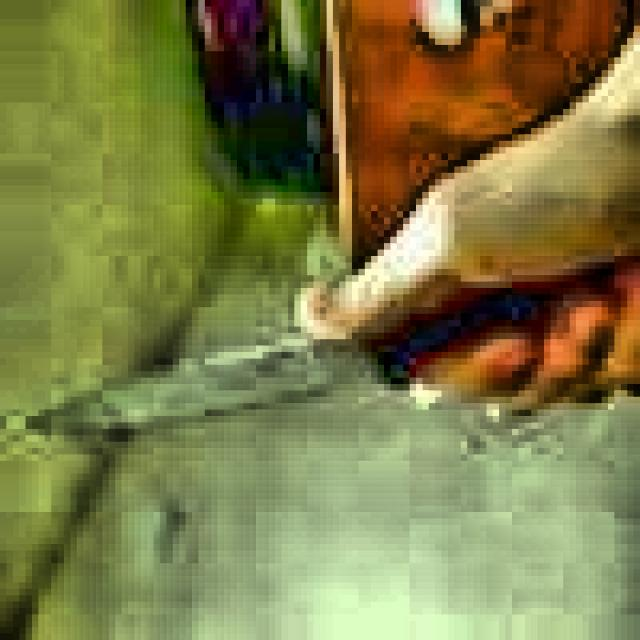knife: (25, 268, 614, 432)
